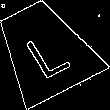L_NW: (17, 20, 72, 79)
